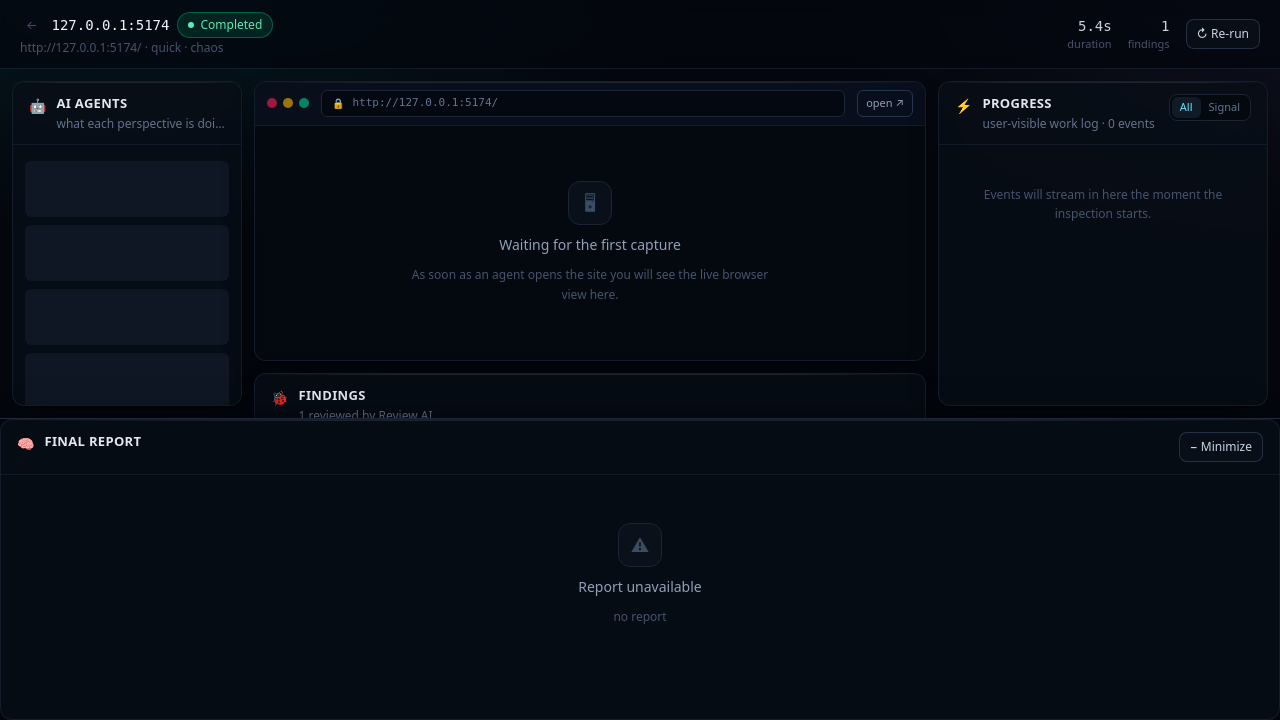
InspectionWorkspace › surfaces a failed action instead of swallowing it
Click the button "↻ Re-run". click: (1223, 34)
box: x1=1186 y1=19 x2=1260 y2=49
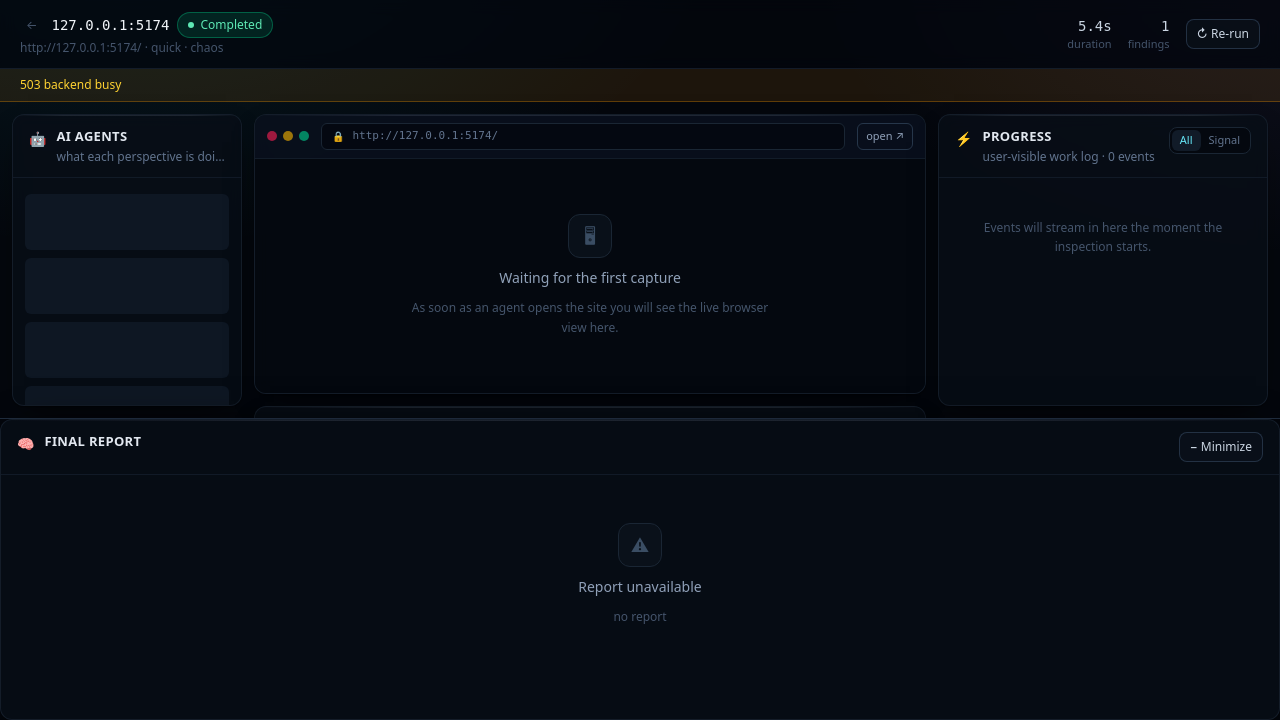
Check: the text "503 backend busy" is shown, box x1=0 y1=69 x2=1279 y2=102
